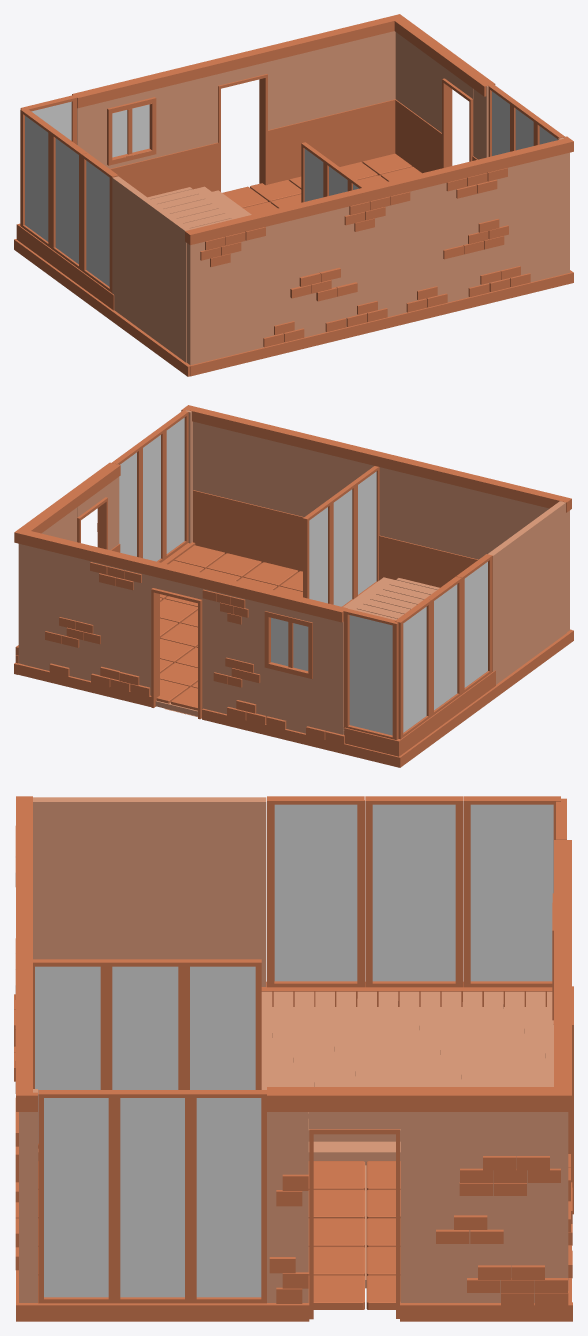
File: Structure.glb
3 views of the same model, one above another, from view 1: azimuth 30°, elevation 25°; view 2: azimuth 150°, elevation 25°; view 3: azimuth 270°, elevation 25° (orthographic). The views are drawn at different scales.
Visible parts, largest first — view 1: Cube.111; view 2: Cube.111; view 3: Cube.111.
Part boxes in pixels (<box>): Cube.111: <box>14,14,573,376</box>; Cube.111: <box>14,405,573,767</box>; Cube.111: <box>14,796,573,1321</box>.
Size of the model in its own units: 6.99 by 2.46 by 5.5.
